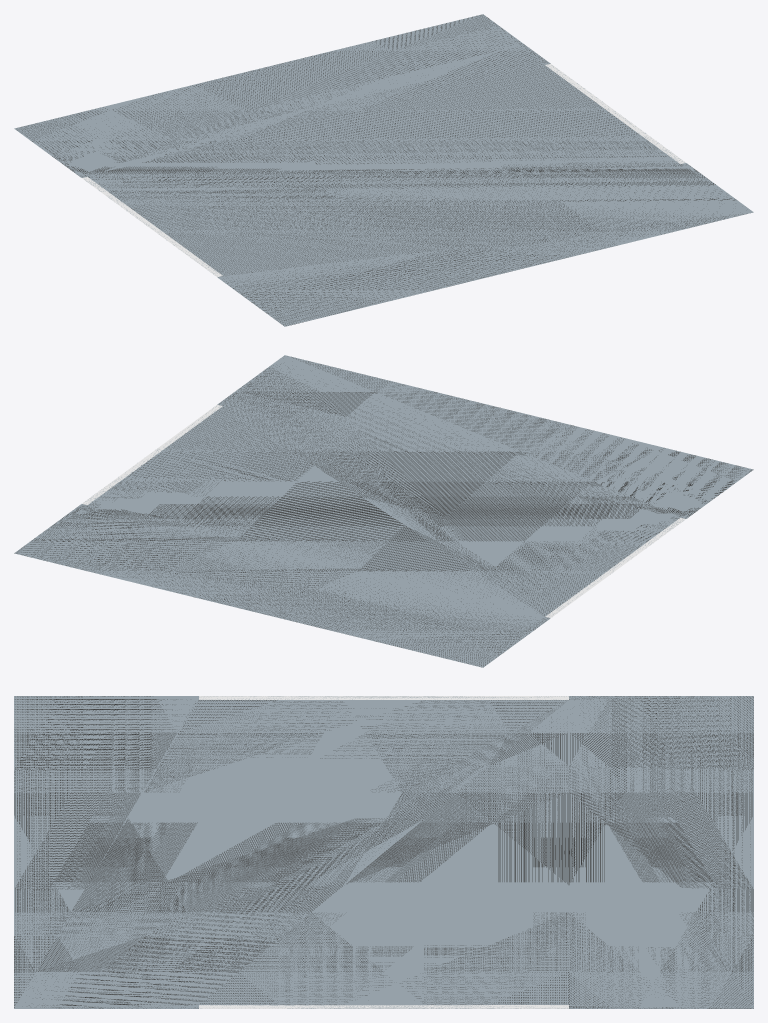
The model's file is lane.fbx.
3 renders of one model, top to bottom at view 1: azimuth 30°, elevation 25°; view 2: azimuth 150°, elevation 25°; view 3: azimuth 270°, elevation 25°, orthographic. The views are drawn at different scales.
Visible parts, largest first — view 1: Model; view 2: Model; view 3: Model.
Boxes of the visible parts, x1,y1,x2,y2 form: Model: (14,14,753,326); Model: (14,355,753,667); Model: (14,696,753,1008).
Bounding box in the file's own units: 4 × 0 × 4.
